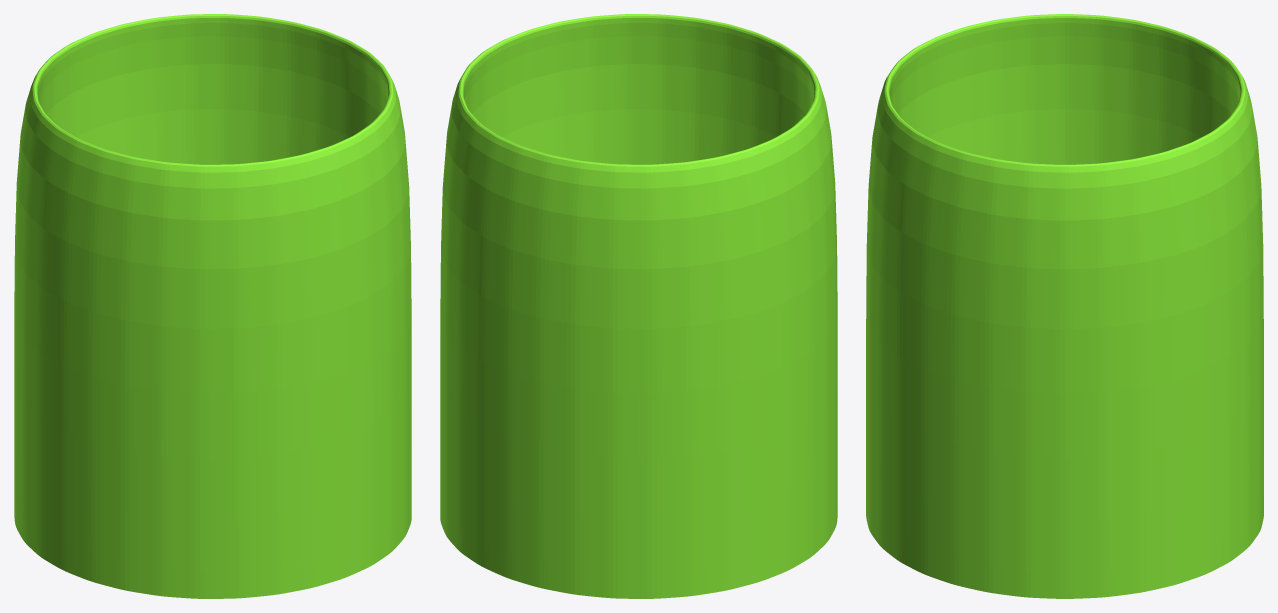
The model's file is jarGreen.fbx.
The picture shows the model from 3 angles, left to right: view 1: azimuth 30°, elevation 25°; view 2: azimuth 150°, elevation 25°; view 3: azimuth 270°, elevation 25°; orthographic projection.
Visible parts, largest first — view 1: Cylinder; view 2: Cylinder; view 3: Cylinder.
Part boxes in pixels (bbox=[...]): Cylinder: bbox=[14, 14, 411, 598]; Cylinder: bbox=[440, 14, 837, 598]; Cylinder: bbox=[866, 14, 1263, 598].
Size of the model in its own units: 199 by 235 by 199.
